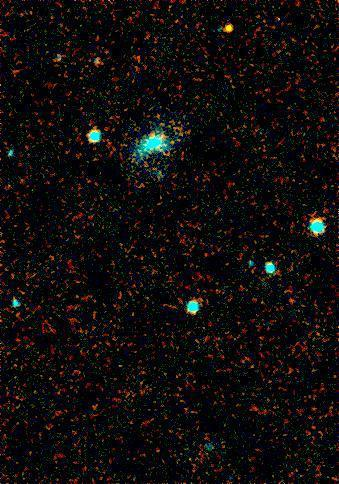star: (212, 13, 242, 43)
